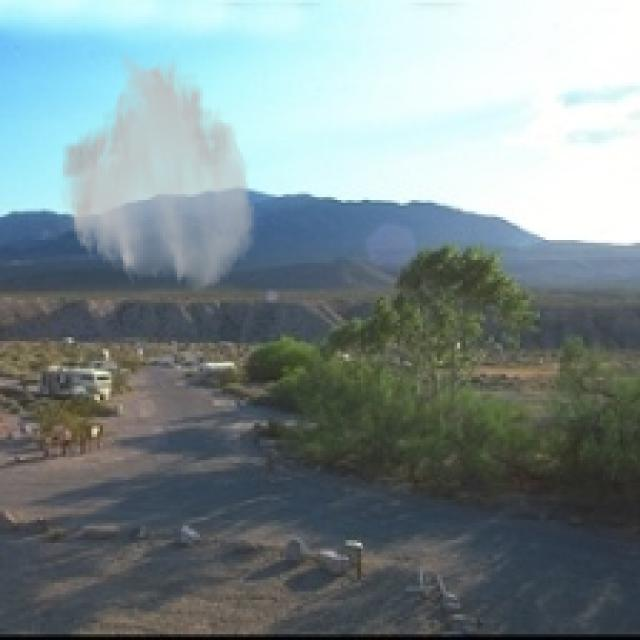smoke: (57, 49, 257, 294)
